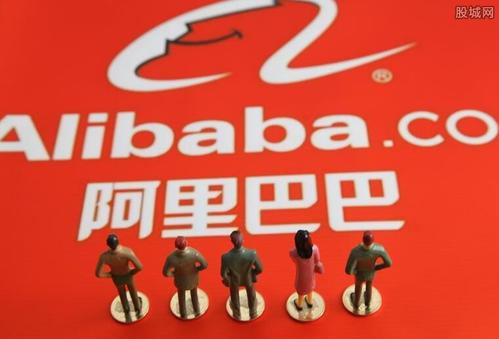alibaba: (1, 1, 499, 243)
